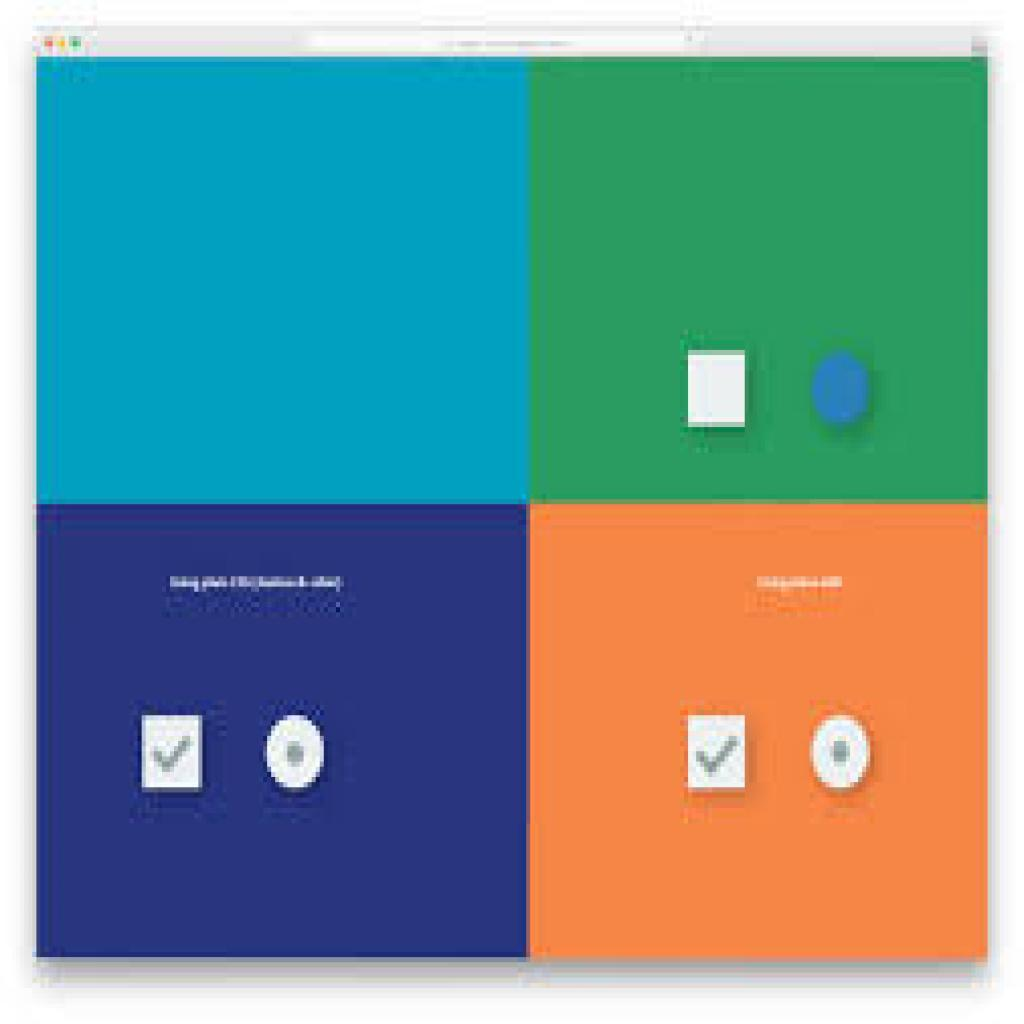checkbox: (687, 350, 751, 433), (141, 713, 203, 790), (688, 716, 750, 791)
radio: (806, 712, 876, 797), (810, 348, 875, 437), (266, 711, 328, 794)
